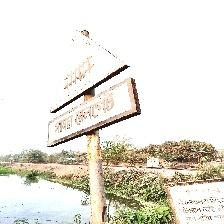Rail-crossing: (47, 31, 140, 148)
